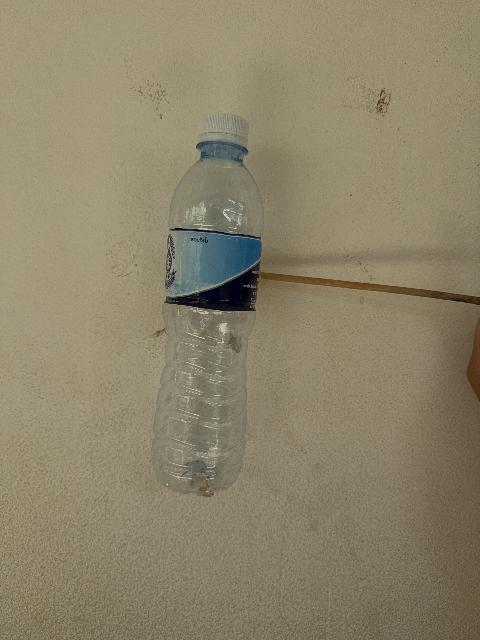bottle: (152, 114, 262, 495)
